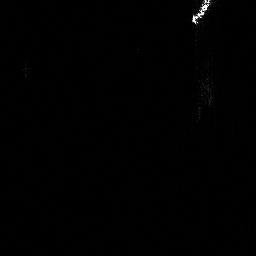ship: (189, 1, 214, 25)
